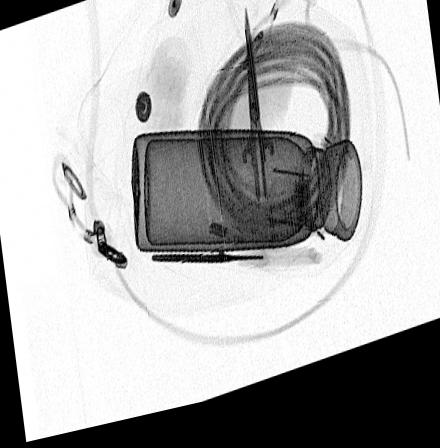Scissors: (229, 17, 283, 247)
